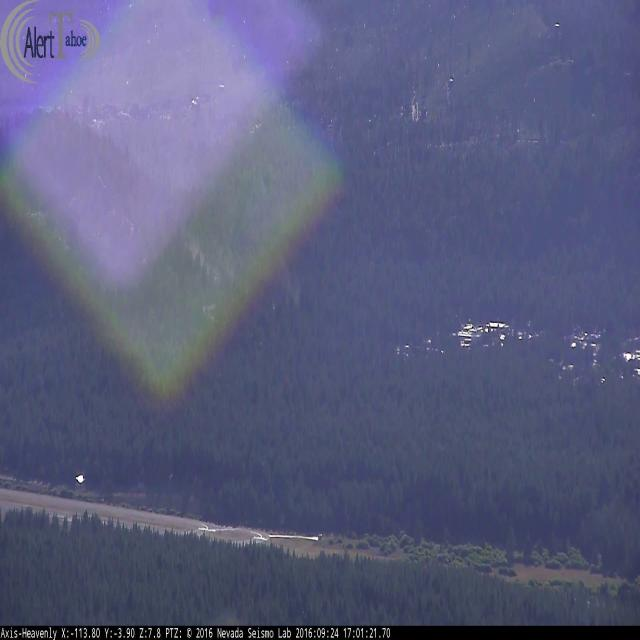smoke: (183, 232, 304, 318)
